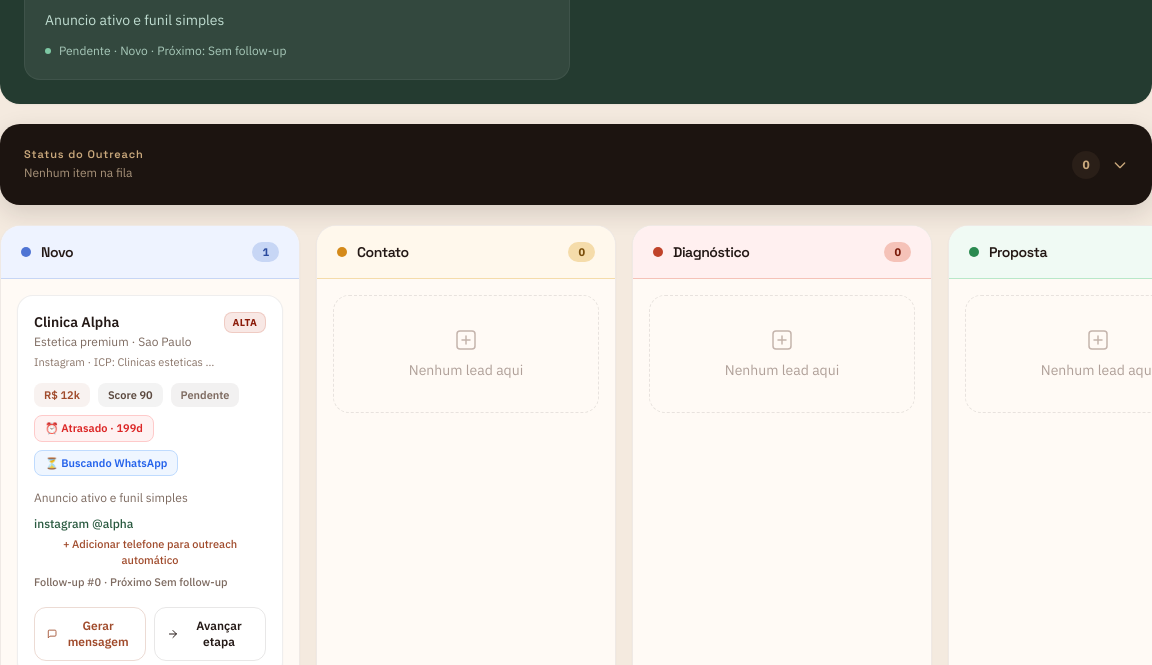
it: Prospecting workspace › generates a contextual outreach message for a lead
The image size is (1152, 665).
(page scrolled)
Click the button "Gerar mensagem" at (90, 634), box x1=34 y1=607 x2=146 y2=661
(page scrolled)
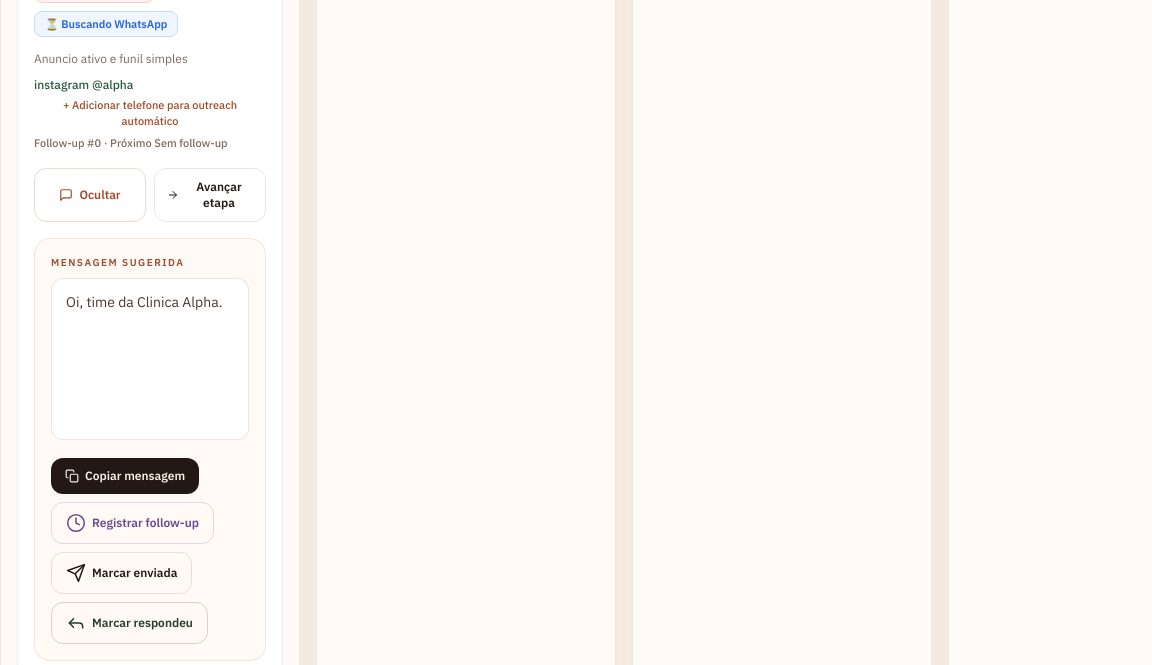
Expected: the text "Mensagem sugerida" is shown, x1=51 y1=256 x2=184 y2=269
Expected: the text box showing "oi, time da clinica alpha" is shown
Replace the text in the text box named "mensagem do lead clinica alpha" with "Mensagem editada para Clinica Alpha" at (150, 359), box x1=51 y1=278 x2=249 y2=440
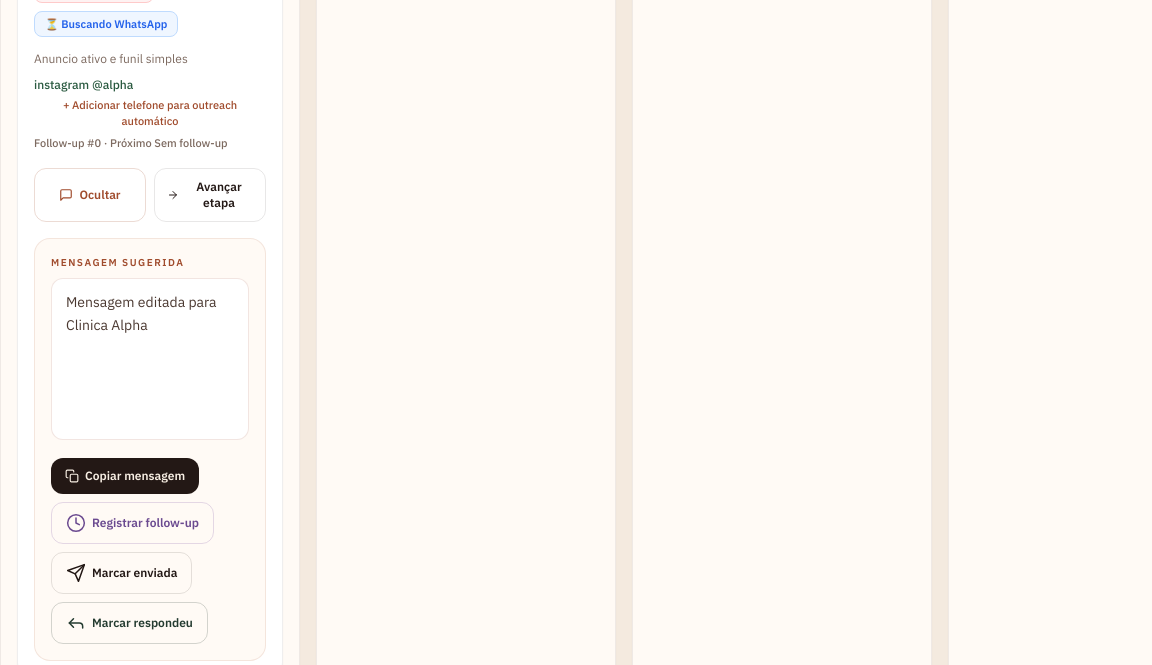
Click the button "Copiar mensagem" at (125, 476), box x1=51 y1=458 x2=199 y2=494
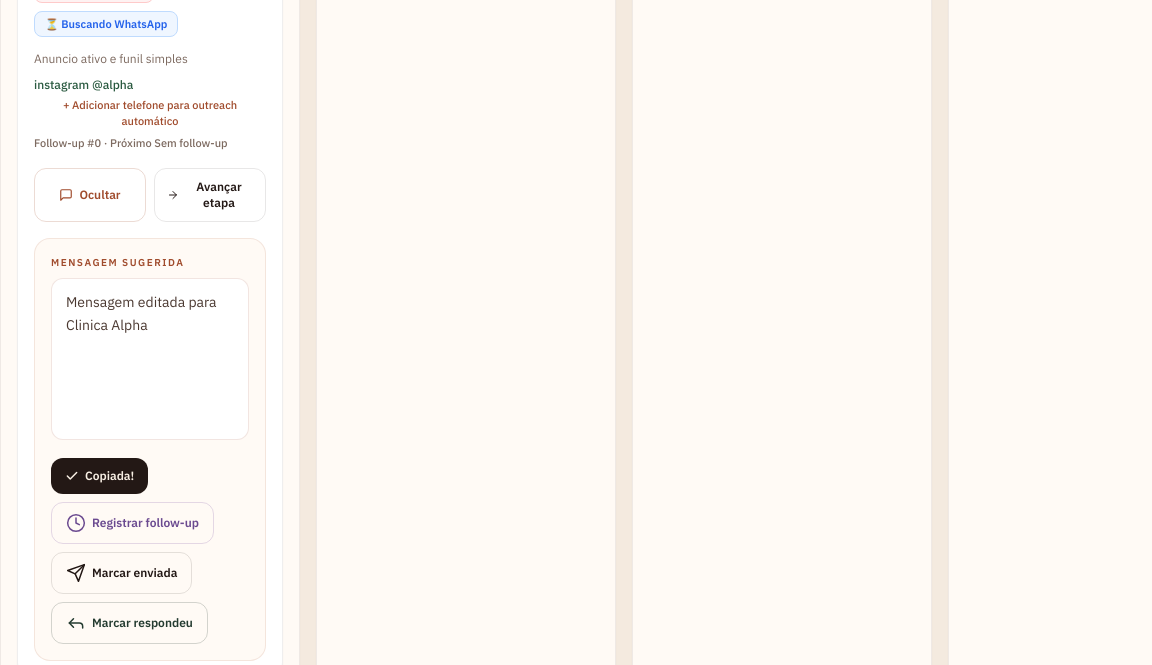
Click the button "Marcar enviada" at (122, 573), box x1=51 y1=552 x2=192 y2=594
(page scrolled)
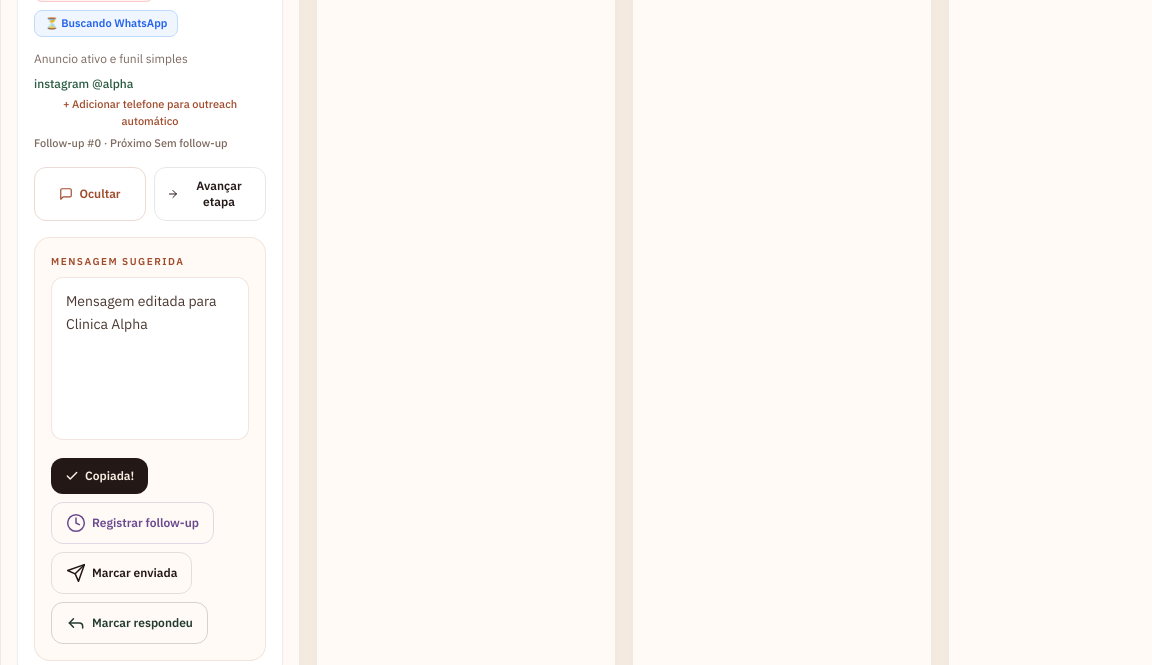
Click the button "Marcar respondeu" at (129, 623), box x1=51 y1=602 x2=208 y2=644
(page scrolled)
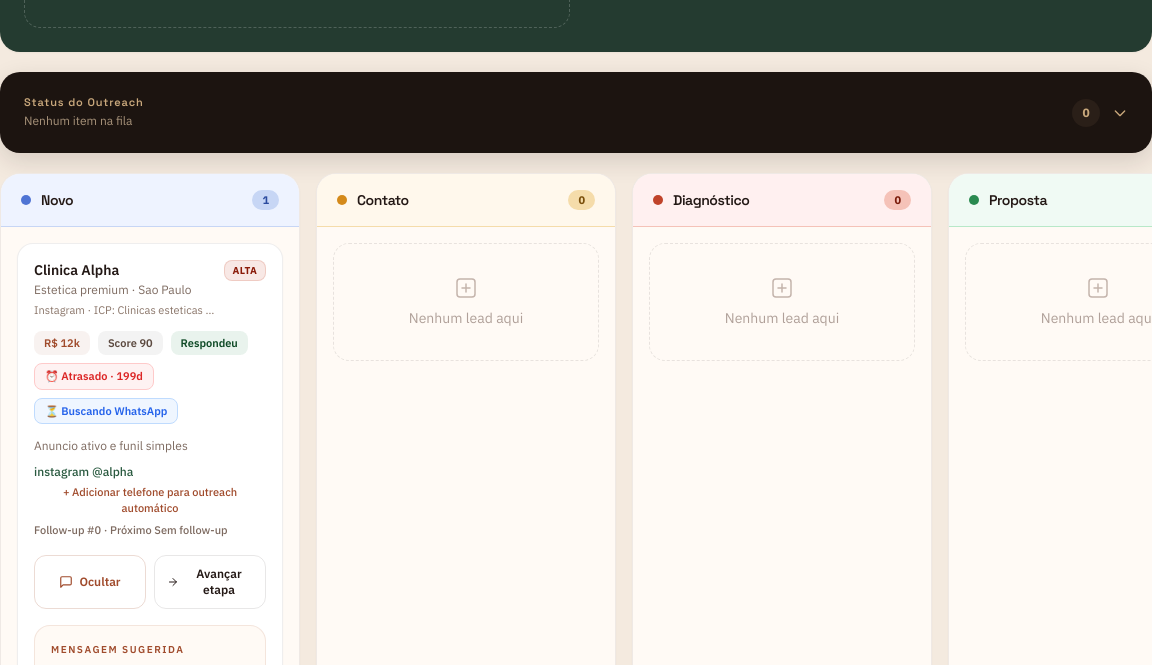
Expected: the text "Respondeu" is shown, x1=171 y1=331 x2=248 y2=355
